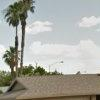Tree: (4, 0, 62, 60)
